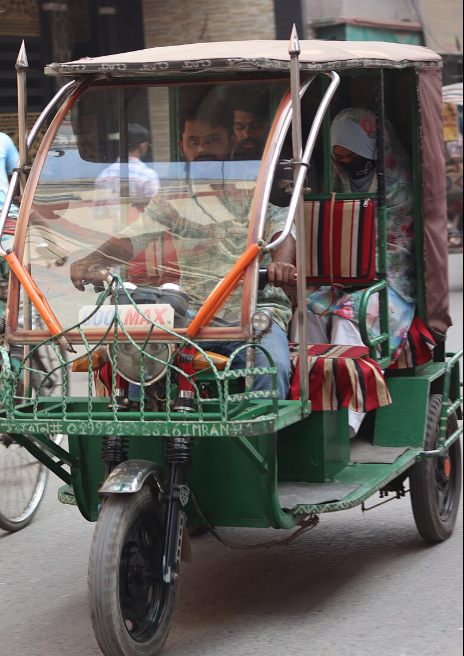auto-ricksaw: (11, 20, 449, 656)
